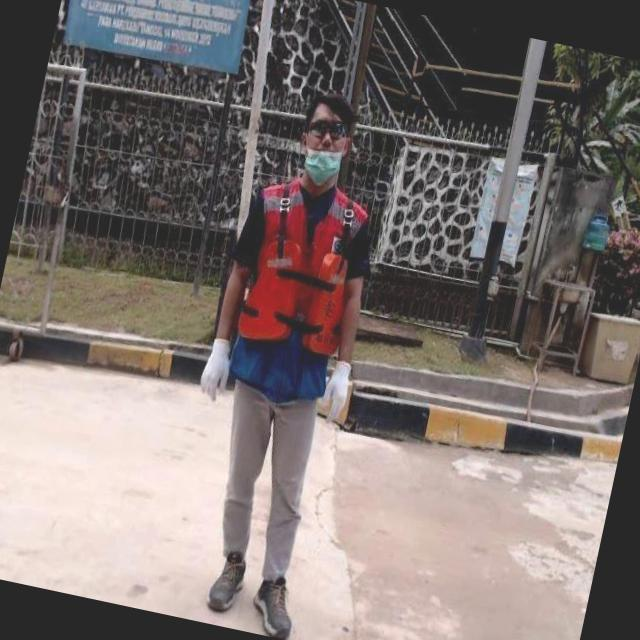vest: (222, 172, 369, 409)
